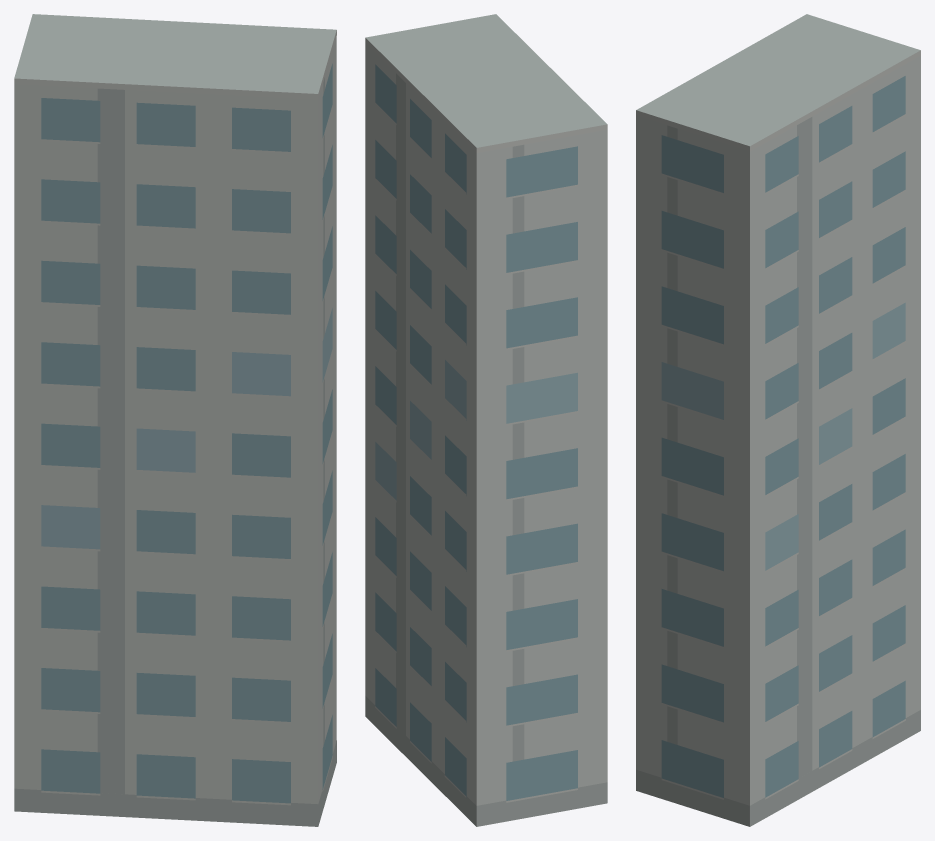
Rendered from residential-5ed82186-4a91-4aa2-a734-2e83a0f39edf.glb.
The picture shows the model from 3 angles, left to right: view 1: azimuth 30°, elevation 25°; view 2: azimuth 150°, elevation 25°; view 3: azimuth 270°, elevation 25°; orthographic projection. The views are drawn at different scales.
Parts seen in each view (by area): view 1: residential-5ed82186-4a91-4aa2-a734-2e83a0f39edf.tmp; view 2: residential-5ed82186-4a91-4aa2-a734-2e83a0f39edf.tmp; view 3: residential-5ed82186-4a91-4aa2-a734-2e83a0f39edf.tmp.
Boxes of the visible parts, x1,y1,x2,y2 form: residential-5ed82186-4a91-4aa2-a734-2e83a0f39edf.tmp: (14,14,336,826); residential-5ed82186-4a91-4aa2-a734-2e83a0f39edf.tmp: (365,14,607,826); residential-5ed82186-4a91-4aa2-a734-2e83a0f39edf.tmp: (636,14,920,826).
Size of the model in its own units: 12.93 by 31 by 11.76.
